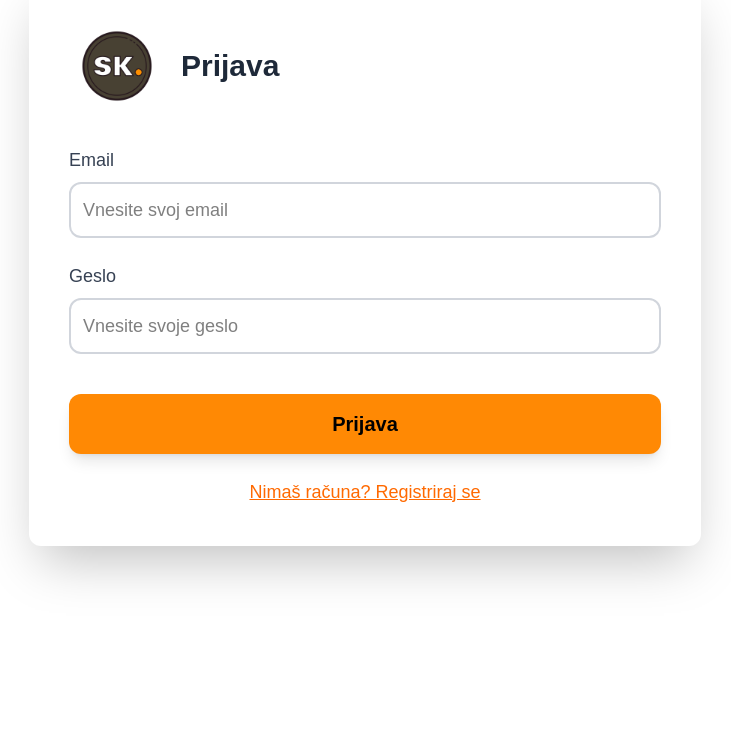
Test: AuthForm Component › Error and Success Message Display › clears error message when switching modes
Note: Trigger error in login mode
Type "test@example.com" into the field with placeholder "Vnesite svoj email" at coordinates (365, 210), box top-left (69, 182), bottom-right (661, 238)
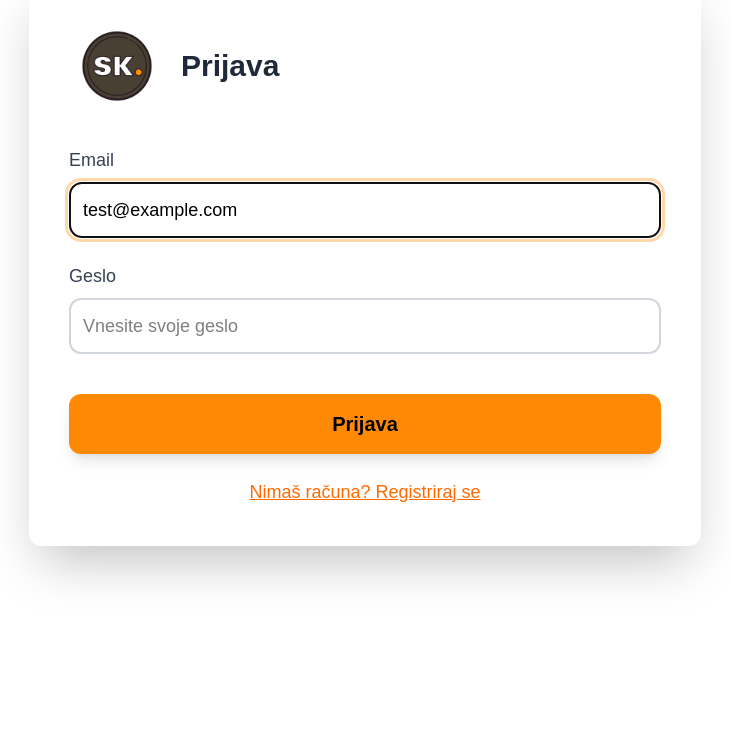
Type "wrongpassword" into the password field with placeholder "Vnesite svoje geslo" at coordinates (365, 326), box top-left (69, 298), bottom-right (661, 354)
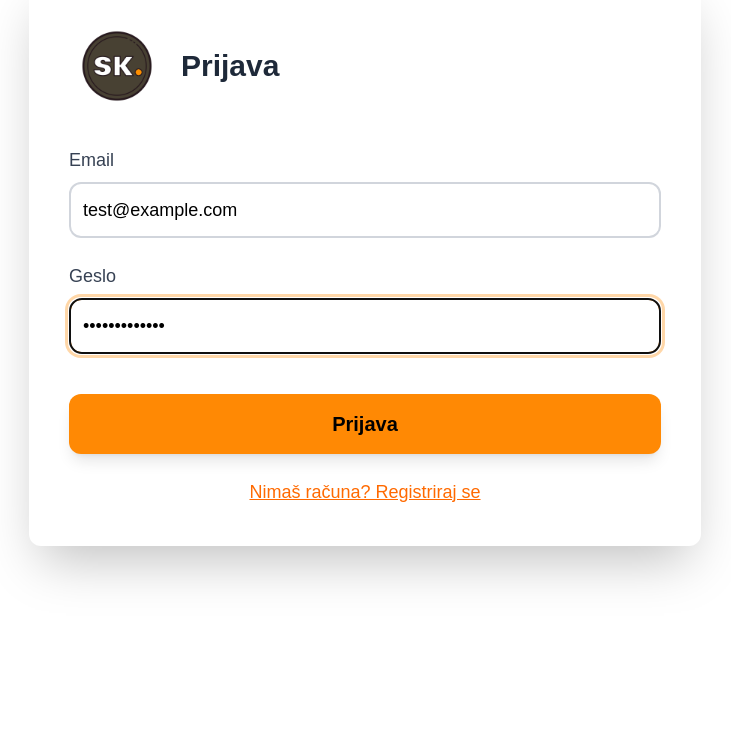
Click the button "Prijava" at coordinates (365, 424), box top-left (69, 394), bottom-right (661, 454)
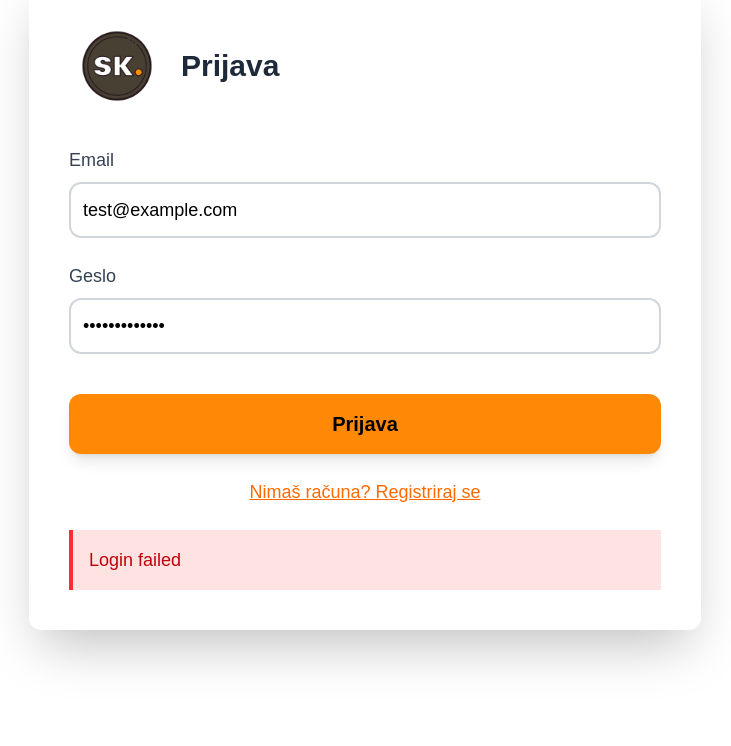
Check: the text "Login failed" is shown, box top-left (69, 530), bottom-right (661, 590)
Note: Switch to signup mode
Click the button "Nimaš računa? Registriraj se" at coordinates (365, 492), box top-left (250, 478), bottom-right (481, 506)
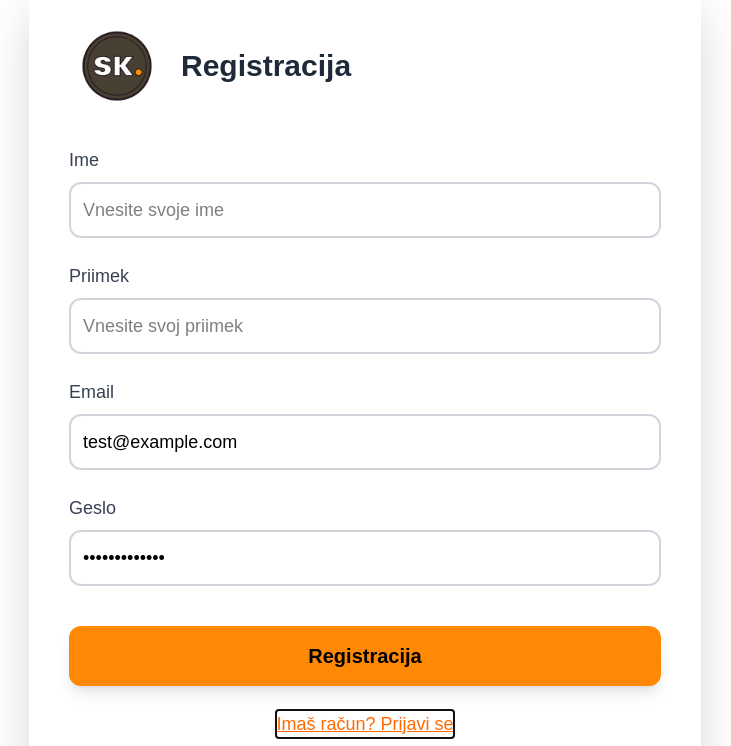
Check: the text "Login failed" is gone
